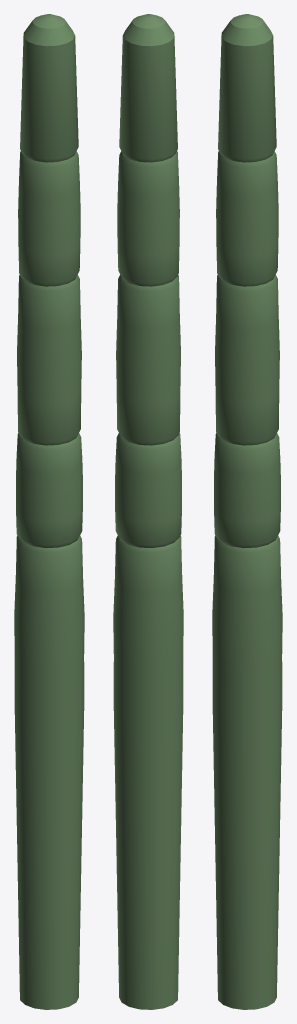
The model's file is CactusTall.fbx.
The picture shows the model from 3 angles, left to right: view 1: azimuth 30°, elevation 25°; view 2: azimuth 210°, elevation 25°; view 3: azimuth 270°, elevation 25°; orthographic projection.
Visible parts, largest first — view 1: tall; view 2: tall; view 3: tall.
Part boxes in pixels (x1=…): tall: x1=14, y1=14, x2=84, y2=1009; tall: x1=113, y1=14, x2=183, y2=1009; tall: x1=212, y1=14, x2=282, y2=1009.
Size of the model in its own units: 26.74 by 409 by 26.59.
